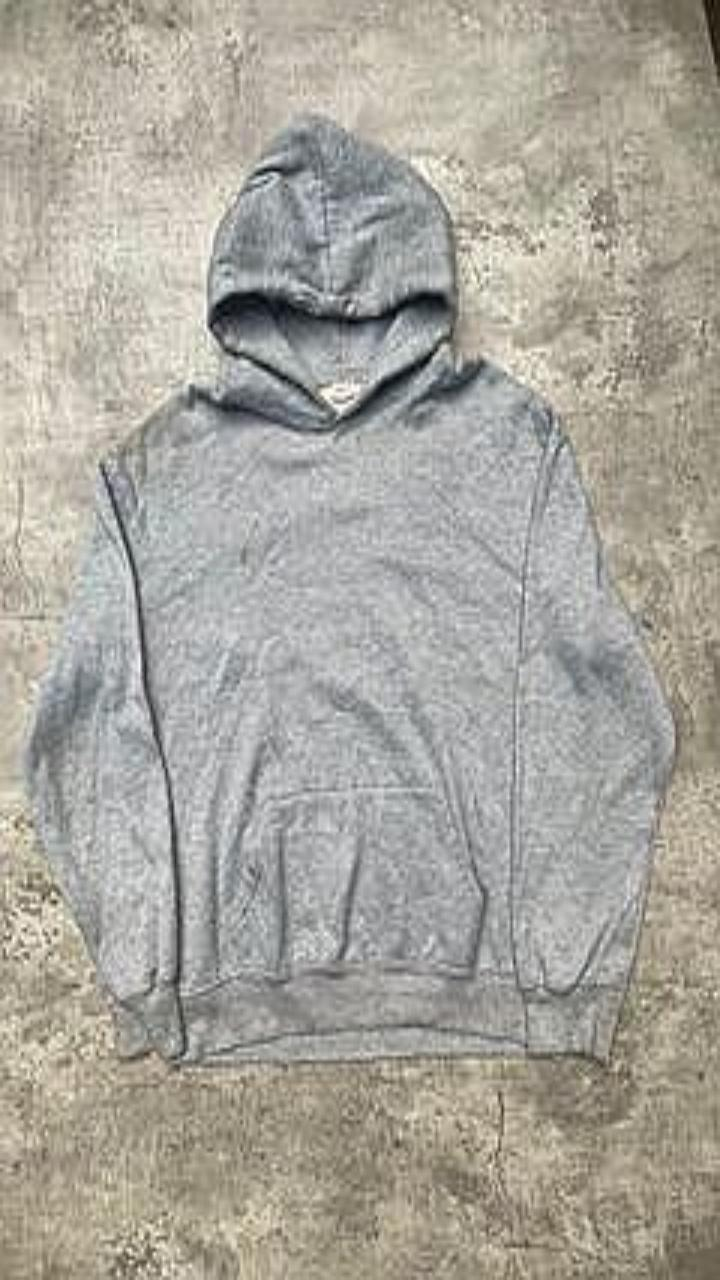Hoodie: (24, 112, 675, 1064)
